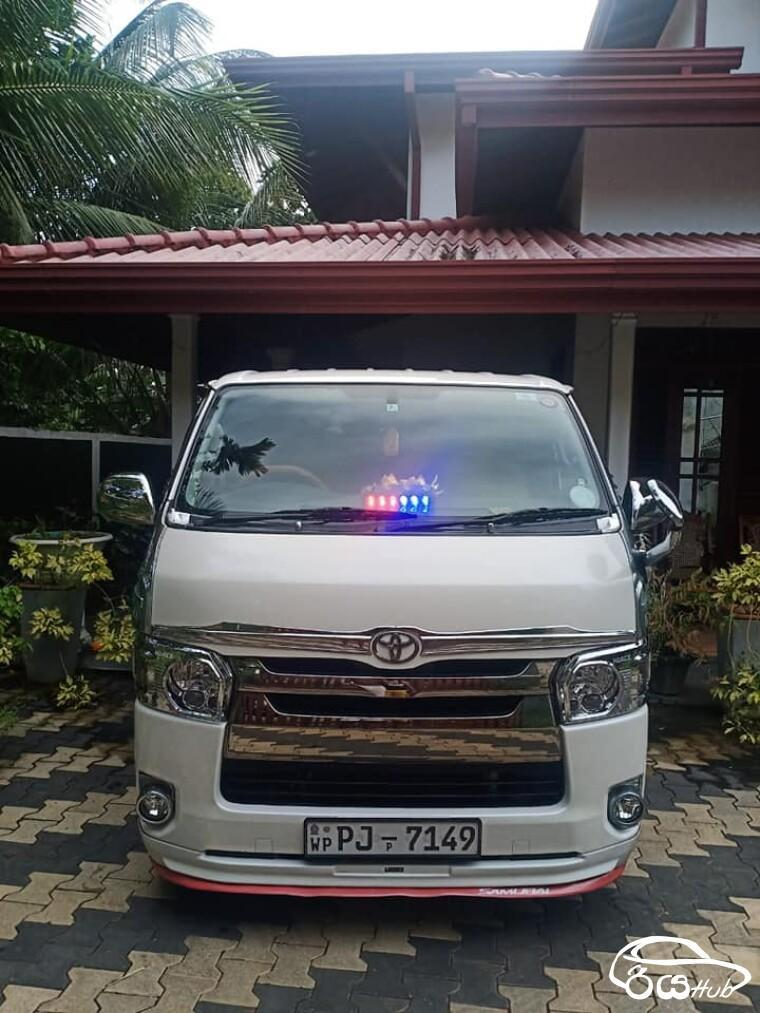car: (107, 351, 679, 907)
